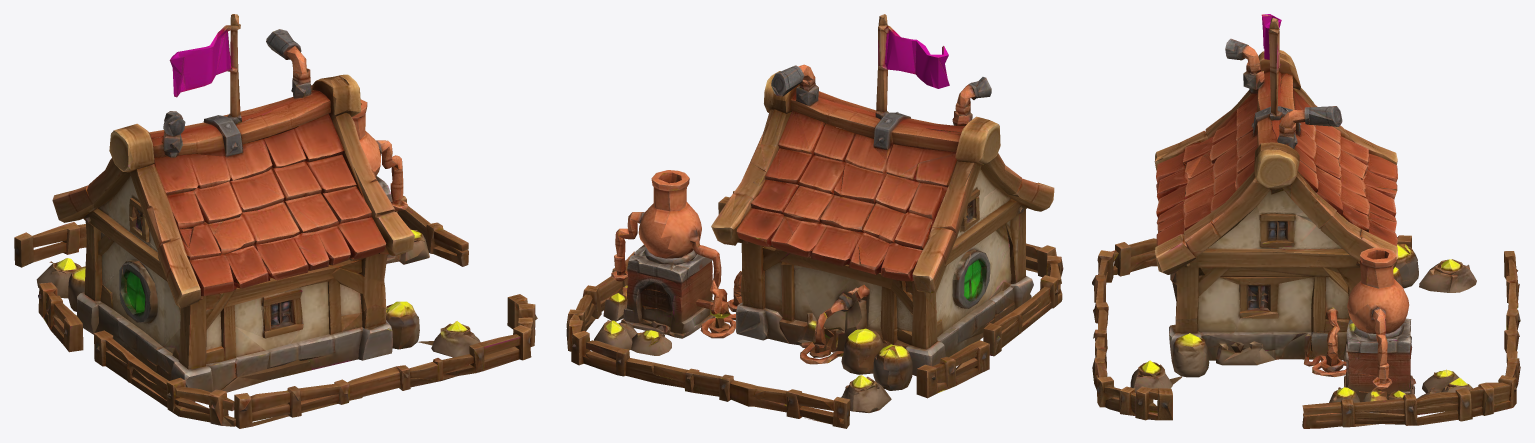
Rendered from alchemist.glb.
The picture shows the model from 3 angles, left to right: view 1: azimuth 30°, elevation 25°; view 2: azimuth 150°, elevation 25°; view 3: azimuth 270°, elevation 25°; orthographic projection. The views are drawn at different scales.
Visible parts, largest first — view 1: Mesh_0; view 2: Mesh_0; view 3: Mesh_0.
Part boxes in pixels (x1,y1,x2,y2): Mesh_0: [14, 14, 537, 428]; Mesh_0: [566, 14, 1063, 428]; Mesh_0: [1092, 14, 1520, 428].
Bounding box in the file's own units: 1.84 × 1.46 × 1.9.
Materials: 1 (1 with a texture image).
